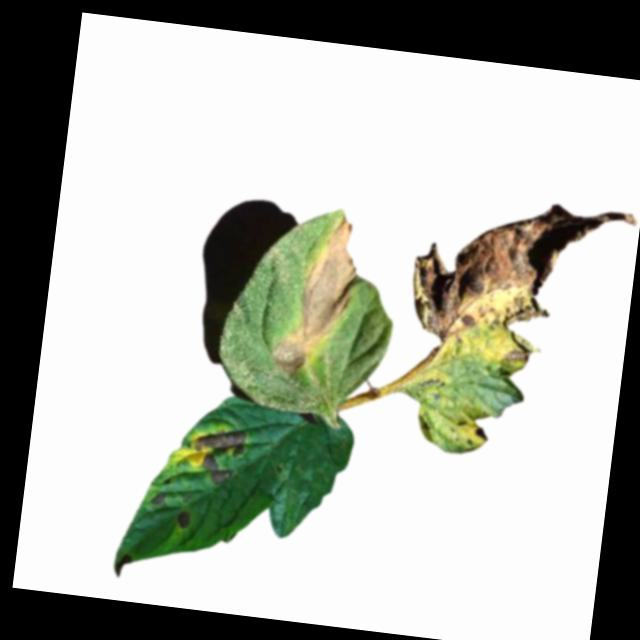Early_blight: (404, 183, 639, 373), (271, 207, 366, 382), (188, 422, 248, 488), (112, 548, 133, 578), (171, 508, 191, 528), (146, 488, 167, 505), (474, 423, 491, 441)
